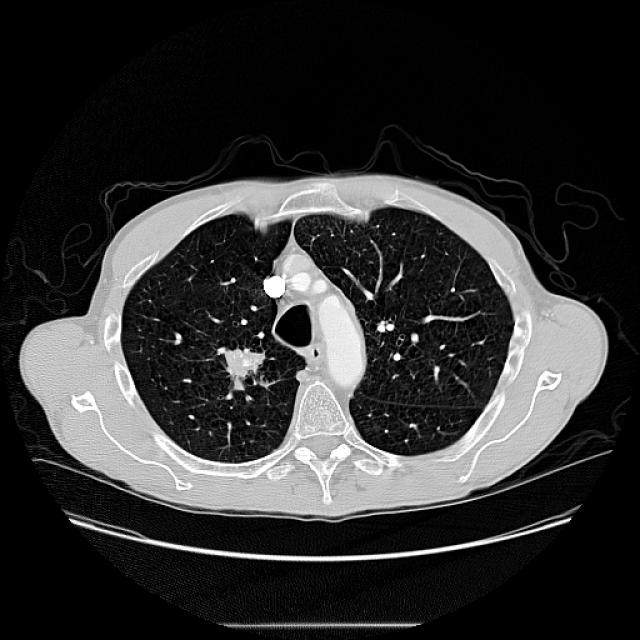nodule: (202, 324, 280, 401)
